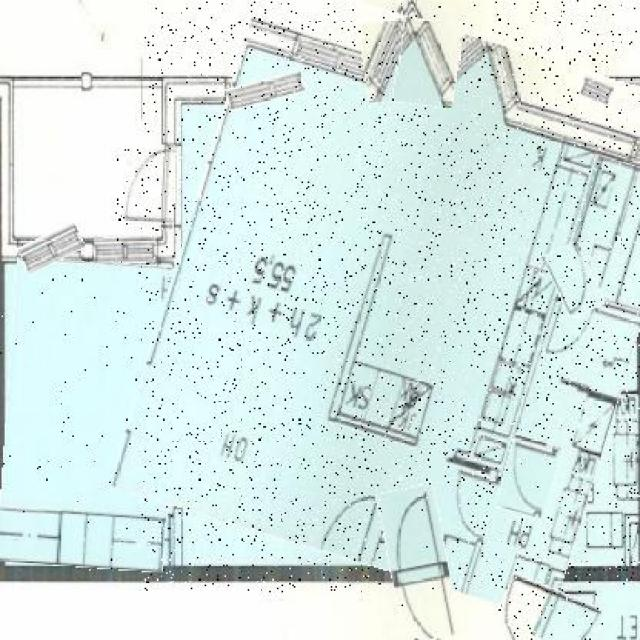door: (381, 484, 452, 640), (499, 580, 603, 640), (116, 143, 176, 231), (500, 438, 558, 517), (548, 243, 598, 317)
window: (397, 19, 461, 106), (363, 20, 415, 103), (19, 228, 84, 268), (228, 76, 304, 106), (94, 237, 155, 263), (580, 79, 614, 103)
zone: (143, 0, 640, 592), (0, 260, 178, 571)
